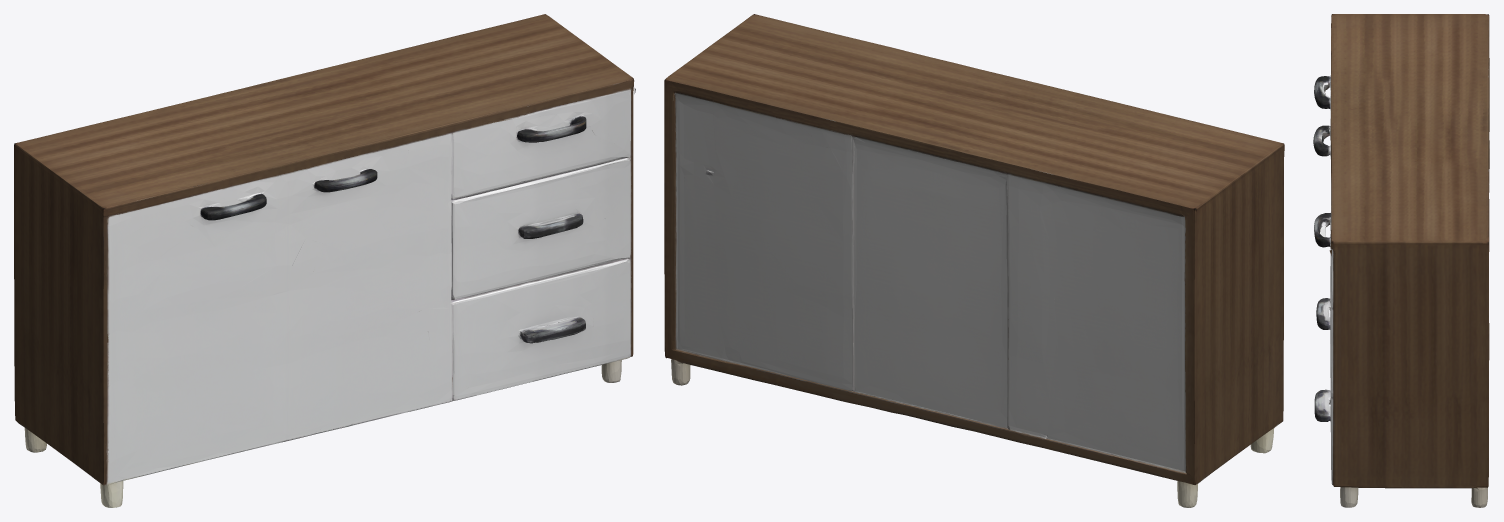
File: mwbr3dbc_kitchen_base_nogueira_white.glb
3 views of the same model, side by side, from view 1: azimuth 30°, elevation 25°; view 2: azimuth 150°, elevation 25°; view 3: azimuth 270°, elevation 25° (orthographic). The views are drawn at different scales.
Parts seen in each view (by area): view 1: world; view 2: world; view 3: world.
Part boxes in pixels (bbox=[...]): world: bbox=[14, 14, 635, 507]; world: bbox=[664, 14, 1284, 507]; world: bbox=[1313, 14, 1489, 507].
Bounding box in the file's own units: 1 × 0.548 × 0.3263.
1 material, 1 textured.
